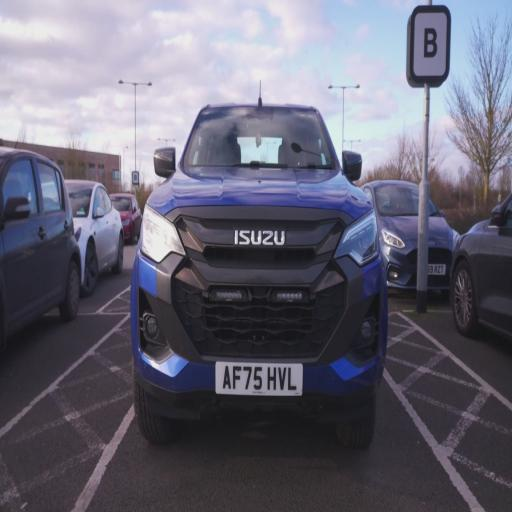numberplates: (216, 362, 302, 395), (428, 264, 445, 275)
